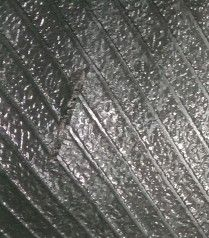cut: (50, 59, 92, 165)
